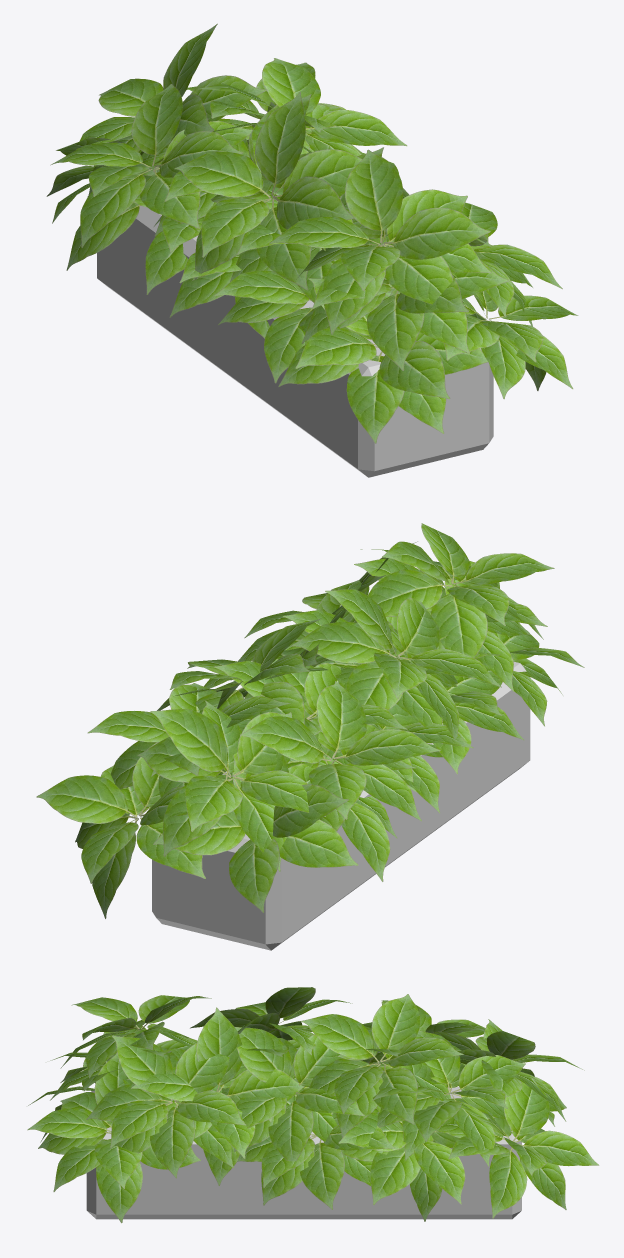
File: Mini_Hedge_Models.fbx
3 views of the same model, one above another, from view 1: azimuth 30°, elevation 25°; view 2: azimuth 150°, elevation 25°; view 3: azimuth 270°, elevation 25° (orthographic). The views are drawn at different scales.
Parts seen in each view (by area): view 1: pianta_2; view 2: pianta_2; view 3: pianta_2.
Part boxes in pixels (x1,y1,x2,y2): pianta_2: (46,23,578,477); pianta_2: (36,523,584,950); pianta_2: (27,987,599,1223).
Size of the model in its own units: 0.1955 by 0.1417 by 0.3399.
Materials: 2 (2 with a texture image).
